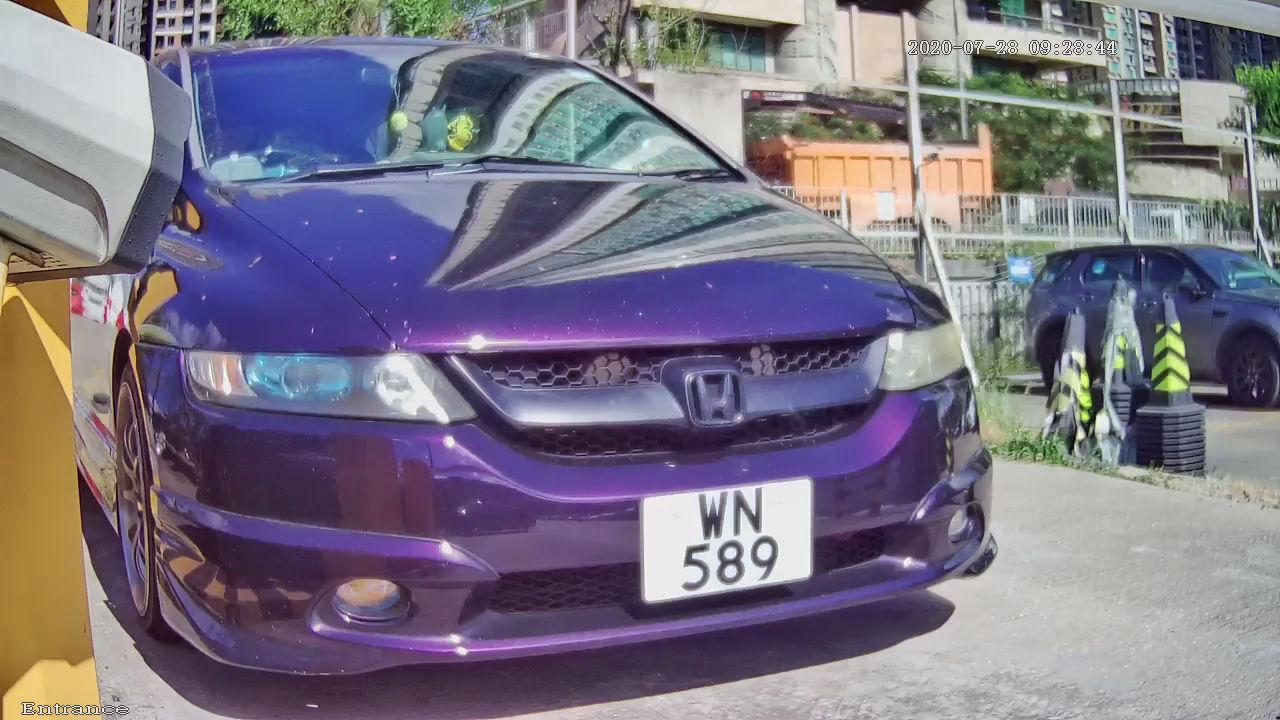privatecar: (23, 26, 1126, 695)
